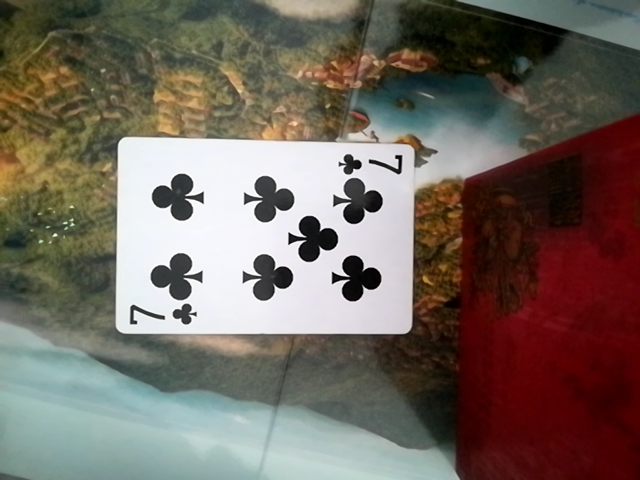mh 7: (110, 137, 418, 342)
